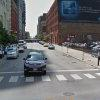Car: (22, 45, 51, 81)
